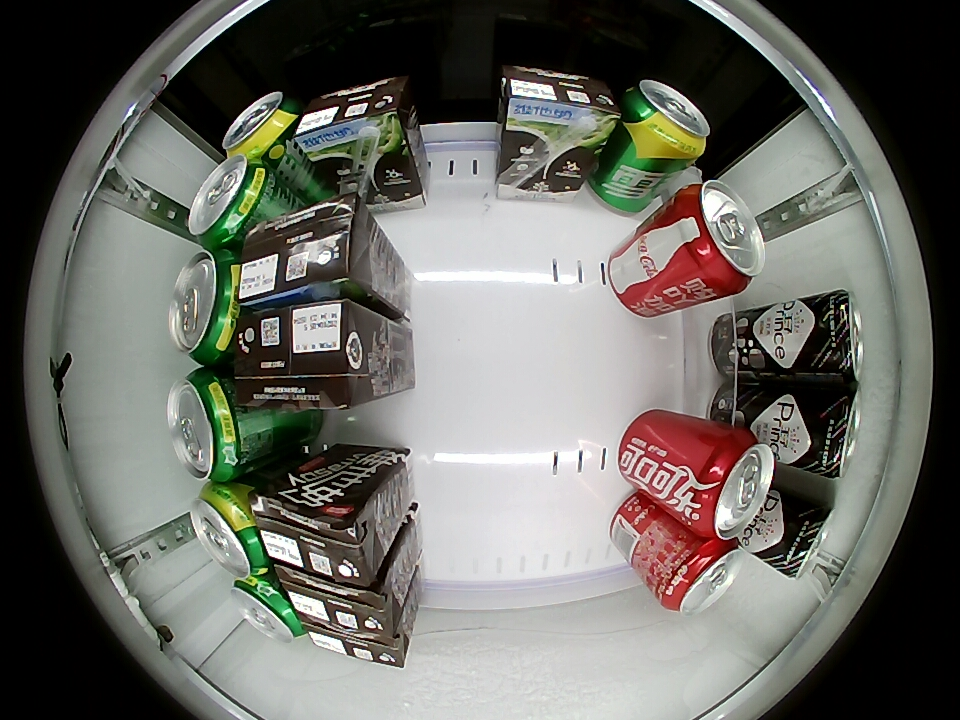kele: (671, 179, 766, 294), (689, 431, 775, 539), (658, 537, 742, 615)
qingdaowangzi-1: (804, 387, 862, 478), (810, 290, 864, 383), (772, 502, 834, 578)
weitanai2: (237, 302, 373, 411), (254, 474, 381, 586), (236, 194, 357, 309), (295, 77, 411, 159), (496, 67, 620, 142), (276, 568, 396, 637), (303, 623, 411, 667)
xuebi2: (167, 368, 254, 481), (169, 250, 246, 364), (187, 155, 274, 249), (189, 482, 269, 579), (622, 78, 710, 161), (223, 91, 301, 161), (230, 573, 305, 644)
